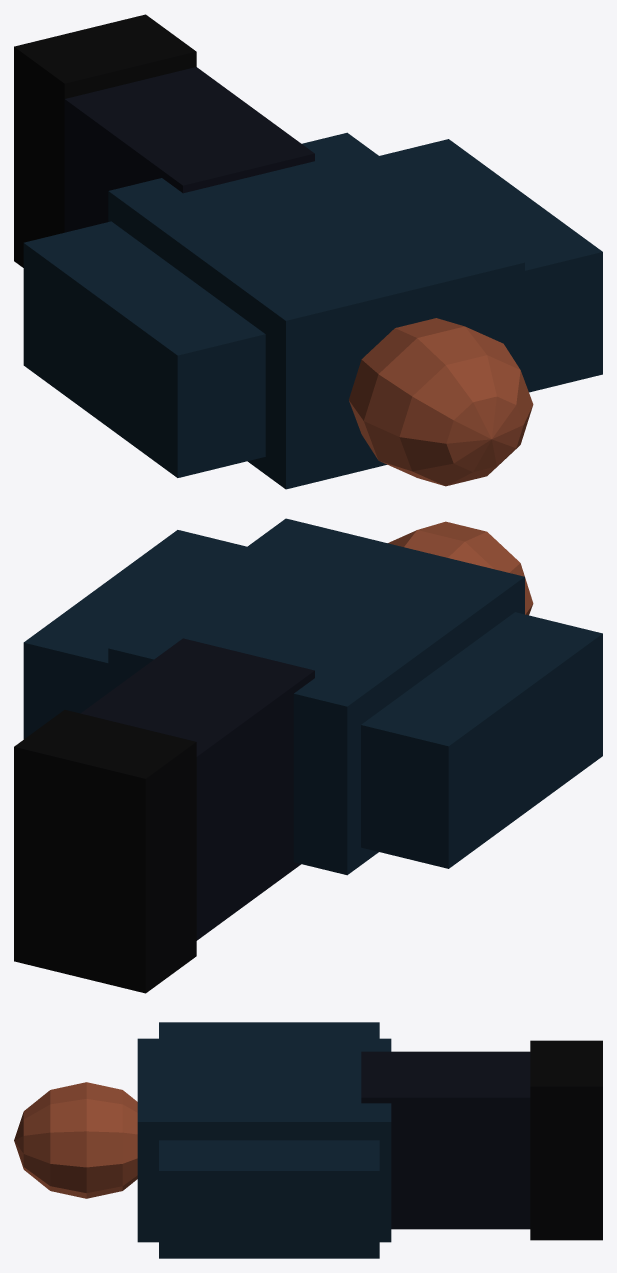
Rendered from NovaFemale.obj.
The picture shows the model from 3 angles, top to bottom: view 1: azimuth 30°, elevation 25°; view 2: azimuth 150°, elevation 25°; view 3: azimuth 270°, elevation 25°; orthographic projection. The views are drawn at different scales.
Visible parts, largest first — view 1: NovaFemale; view 2: NovaFemale; view 3: NovaFemale.
Boxes of the visible parts, x1,y1,x2,y2 form: NovaFemale: (14, 14, 602, 489); NovaFemale: (14, 518, 602, 993); NovaFemale: (14, 1022, 602, 1258).
Bounding box in the file's own units: 1.16 × 0.56 × 1.95.
